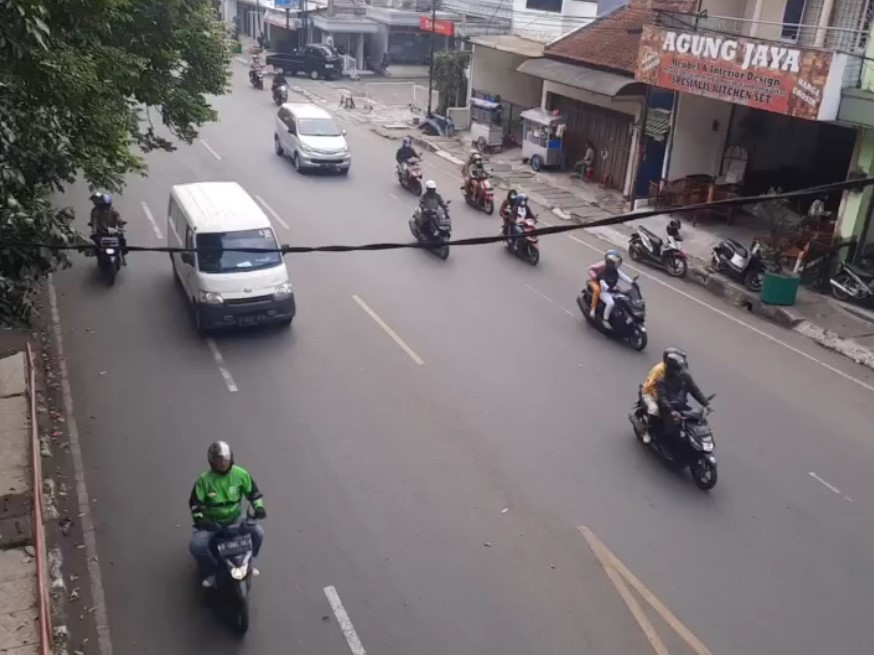mobil: (165, 179, 298, 336), (276, 101, 352, 174)
motor: (176, 438, 276, 633), (631, 347, 719, 497), (581, 247, 653, 355), (79, 194, 133, 285), (409, 181, 456, 260), (497, 191, 543, 264), (457, 151, 496, 217), (390, 139, 426, 191)
